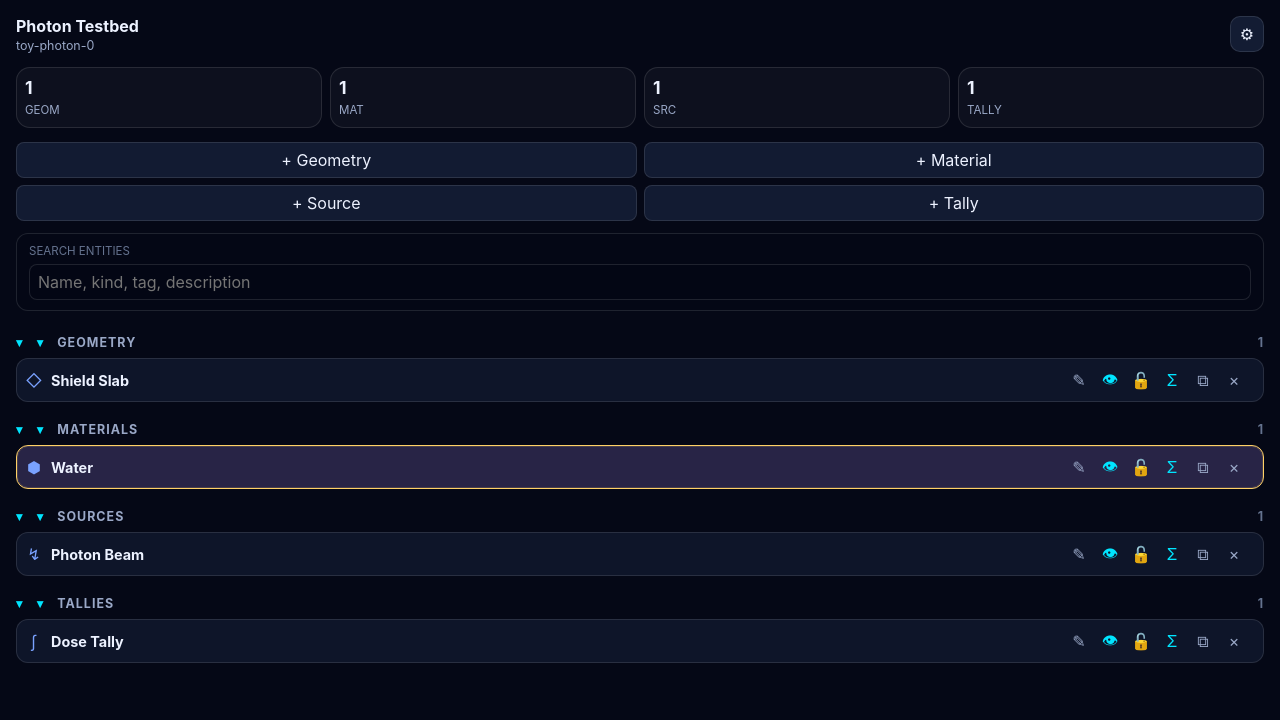
Test case: ProjectTree › opens Project Settings, cancels atomically, and restores keyboard focus
The width and height of the screenshot is (1280, 720).
Click the button named "Project settings": (1247, 34) [1230,16,1264,52]
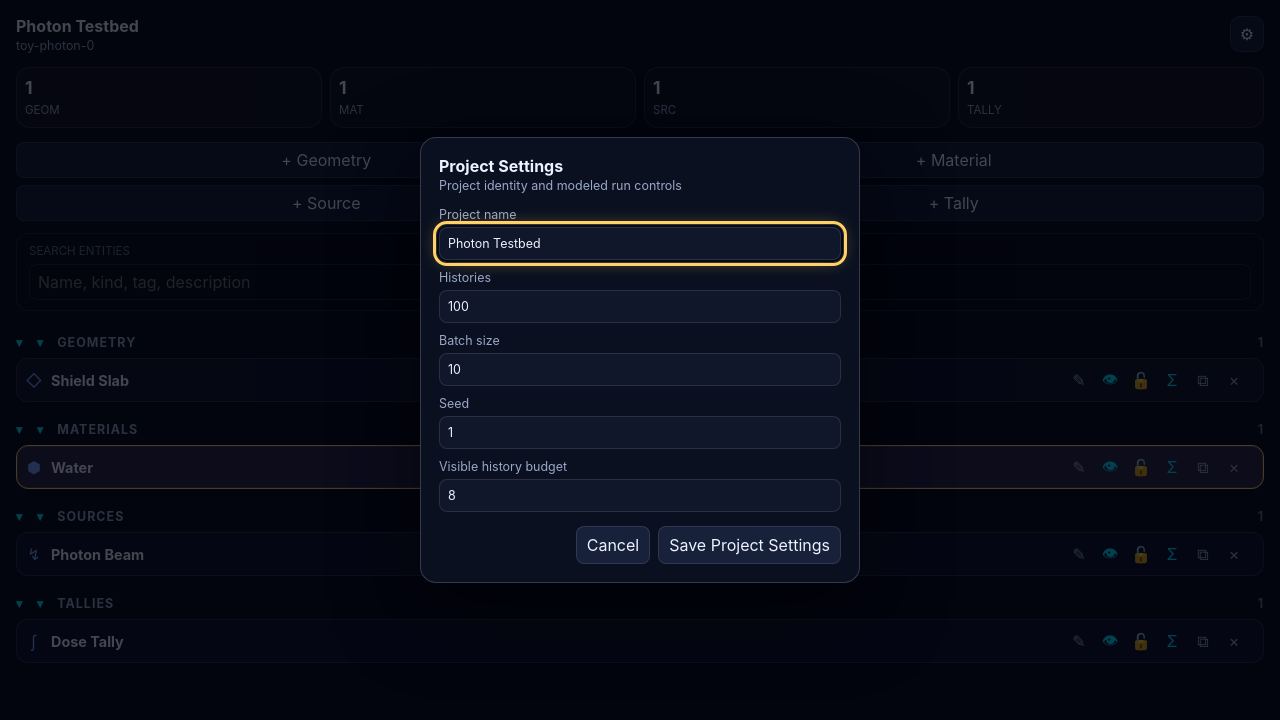
Check: the dialog "Project Settings" is shown, box [420,137,860,583]
Check: the field labelled "Project name" holds "Photon Testbed"
Press Tab in the field labelled "Project name", box [439,227,841,260]
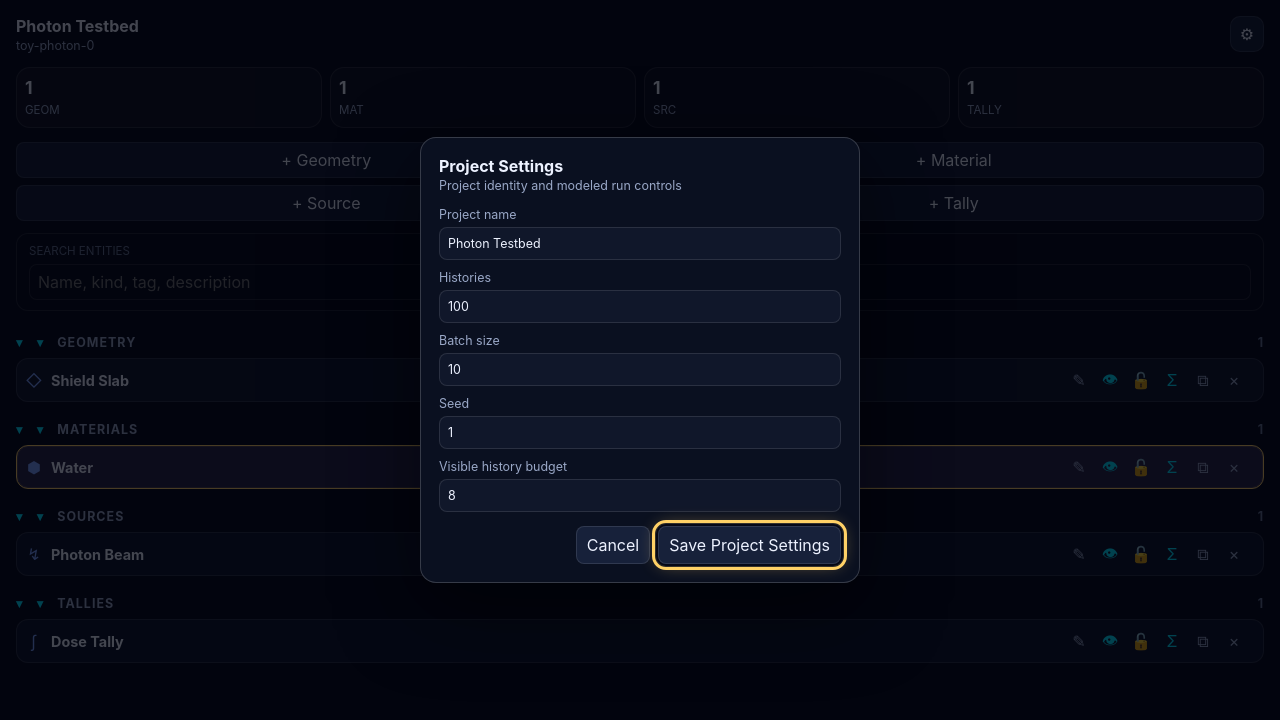
Press Tab in the button "Save Project Settings", box [658,526,841,564]
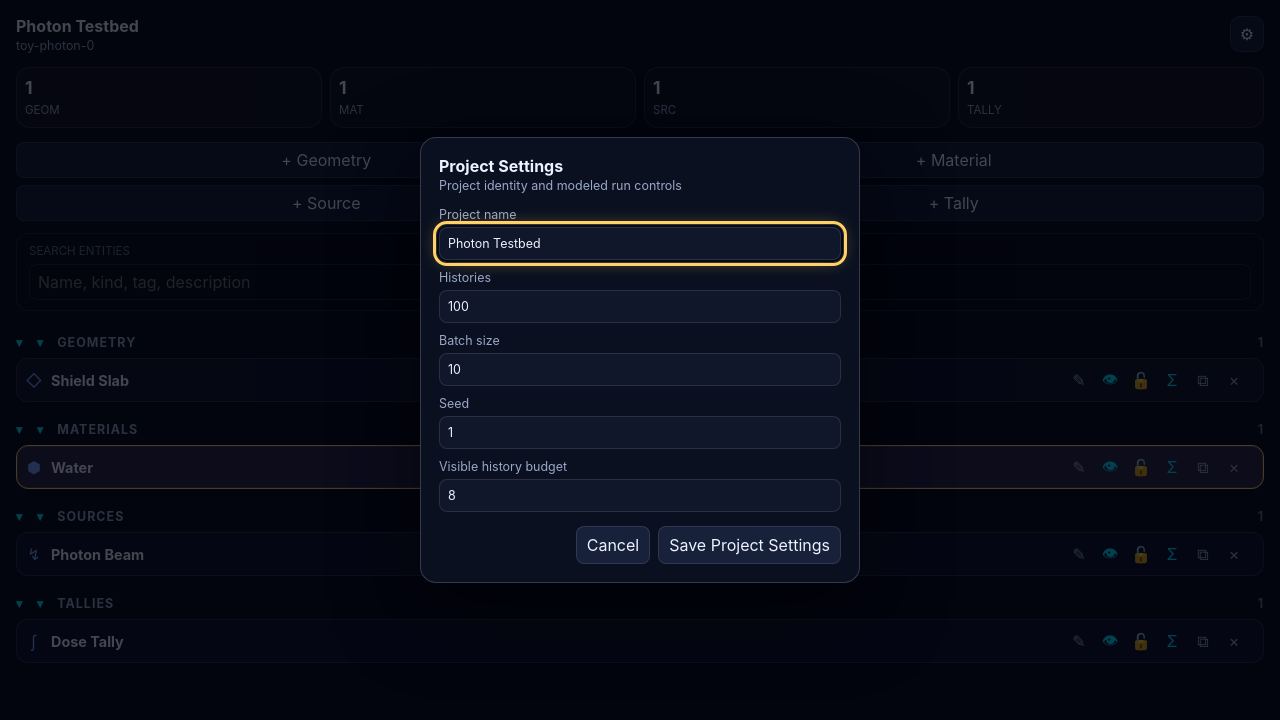
Replace the text in the field labelled "Project name" with "Discarded Name": (640, 244) [439,227,841,260]
Replace the text in the number field labelled "Histories" with "250": (640, 306) [439,290,841,323]
Click the button "Cancel": (613, 545) [576,526,650,564]
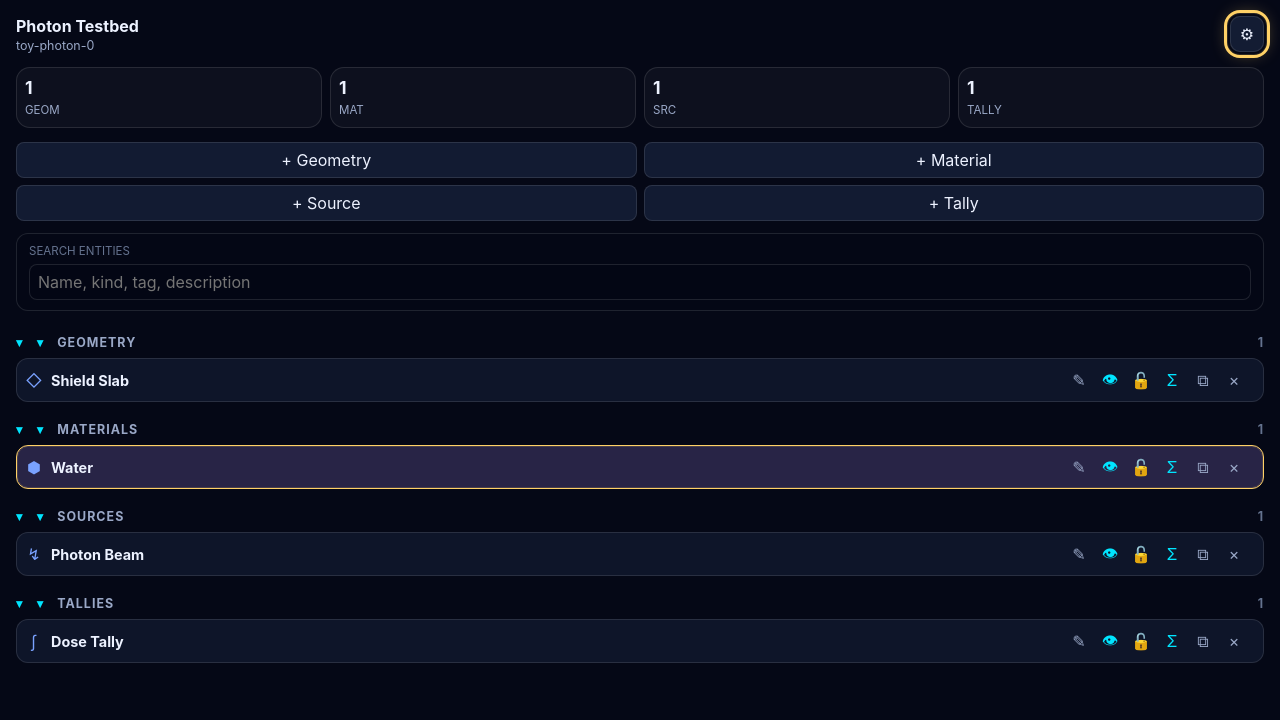
Check: the heading "Photon Testbed" is shown, box [16,16,139,36]
Check: the heading "Project Settings" is gone
Click the button named "Project settings": (1247, 34) [1230,16,1264,52]
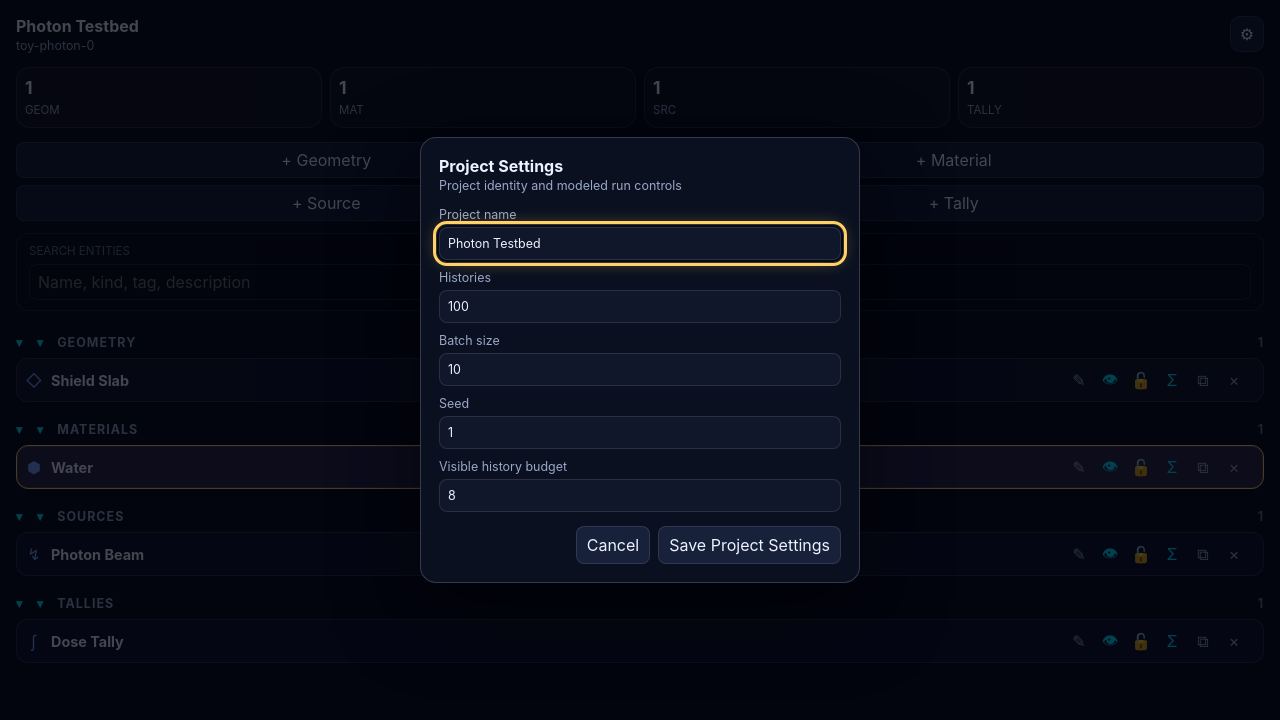
Check: the field labelled "Project name" holds "Photon Testbed", box [439,227,841,260]
Press Escape in the dialog "Project Settings", box [420,137,860,583]
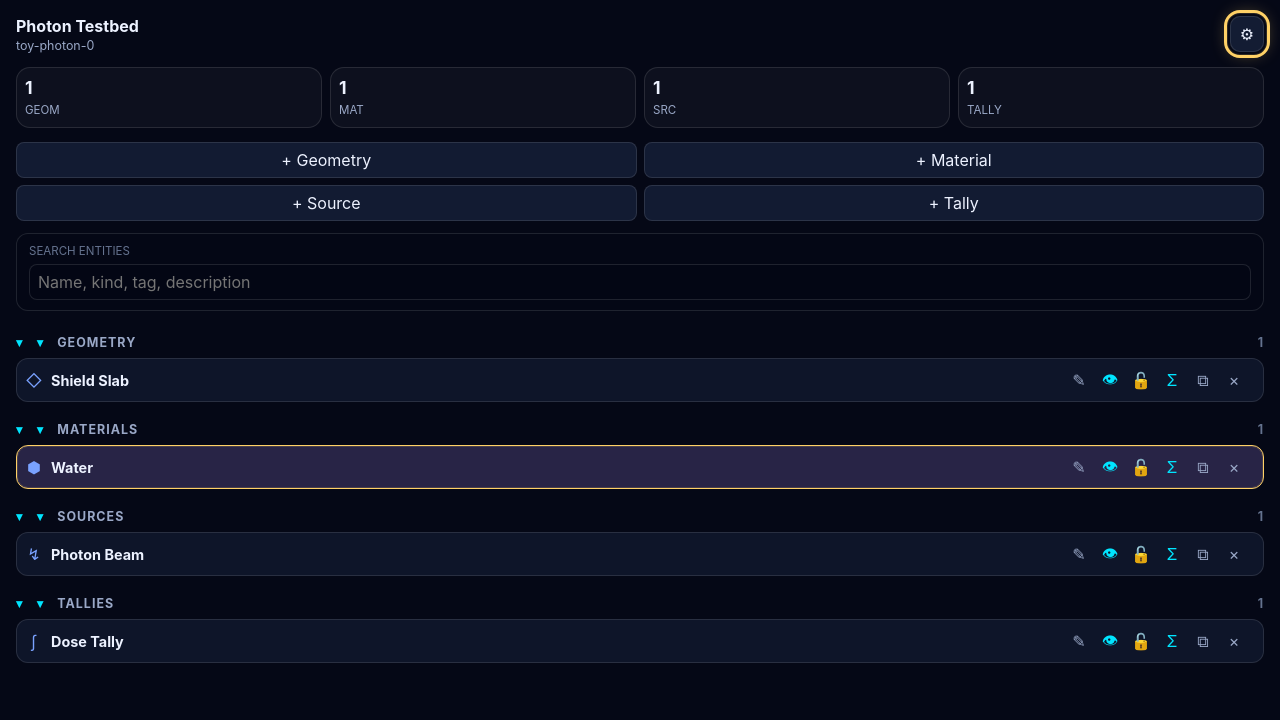
Check: the heading "Project Settings" is gone
